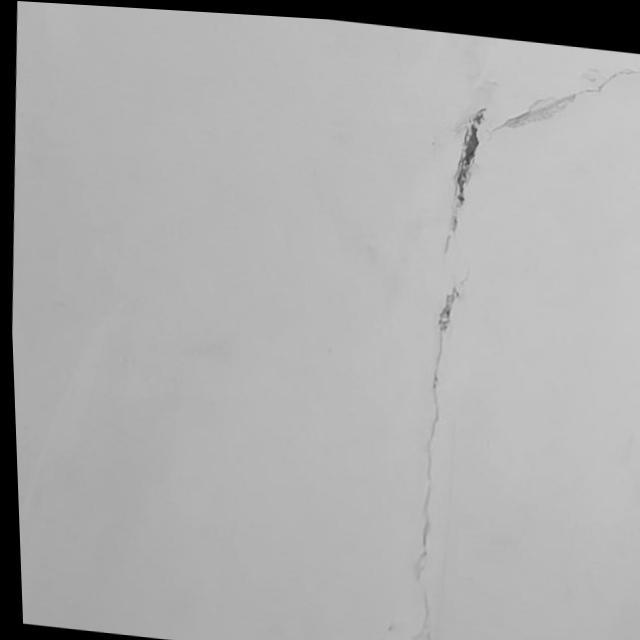Crack: (407, 276, 461, 583), (428, 65, 487, 253), (493, 64, 635, 135)
